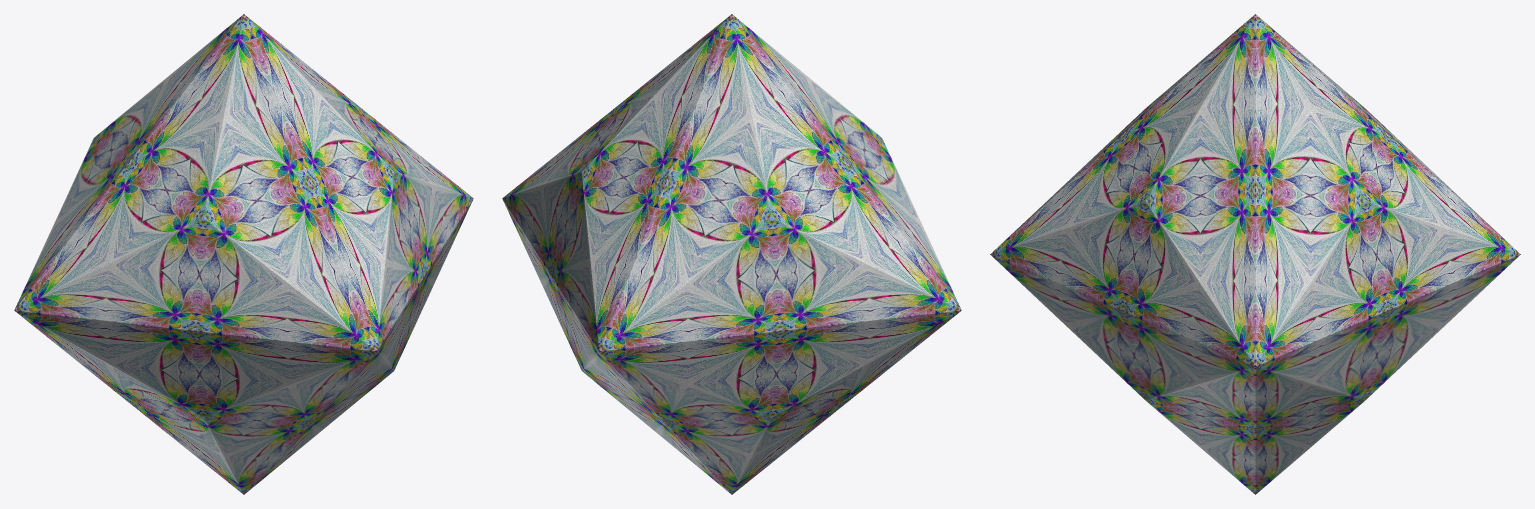
Rendered from TriakisOctahedron6.obj.
The picture shows the model from 3 angles, left to right: view 1: azimuth 30°, elevation 25°; view 2: azimuth 150°, elevation 25°; view 3: azimuth 270°, elevation 25°; orthographic projection.
Size of the model in its own units: 4.83 by 4.83 by 4.83.
1 material, 1 textured.
